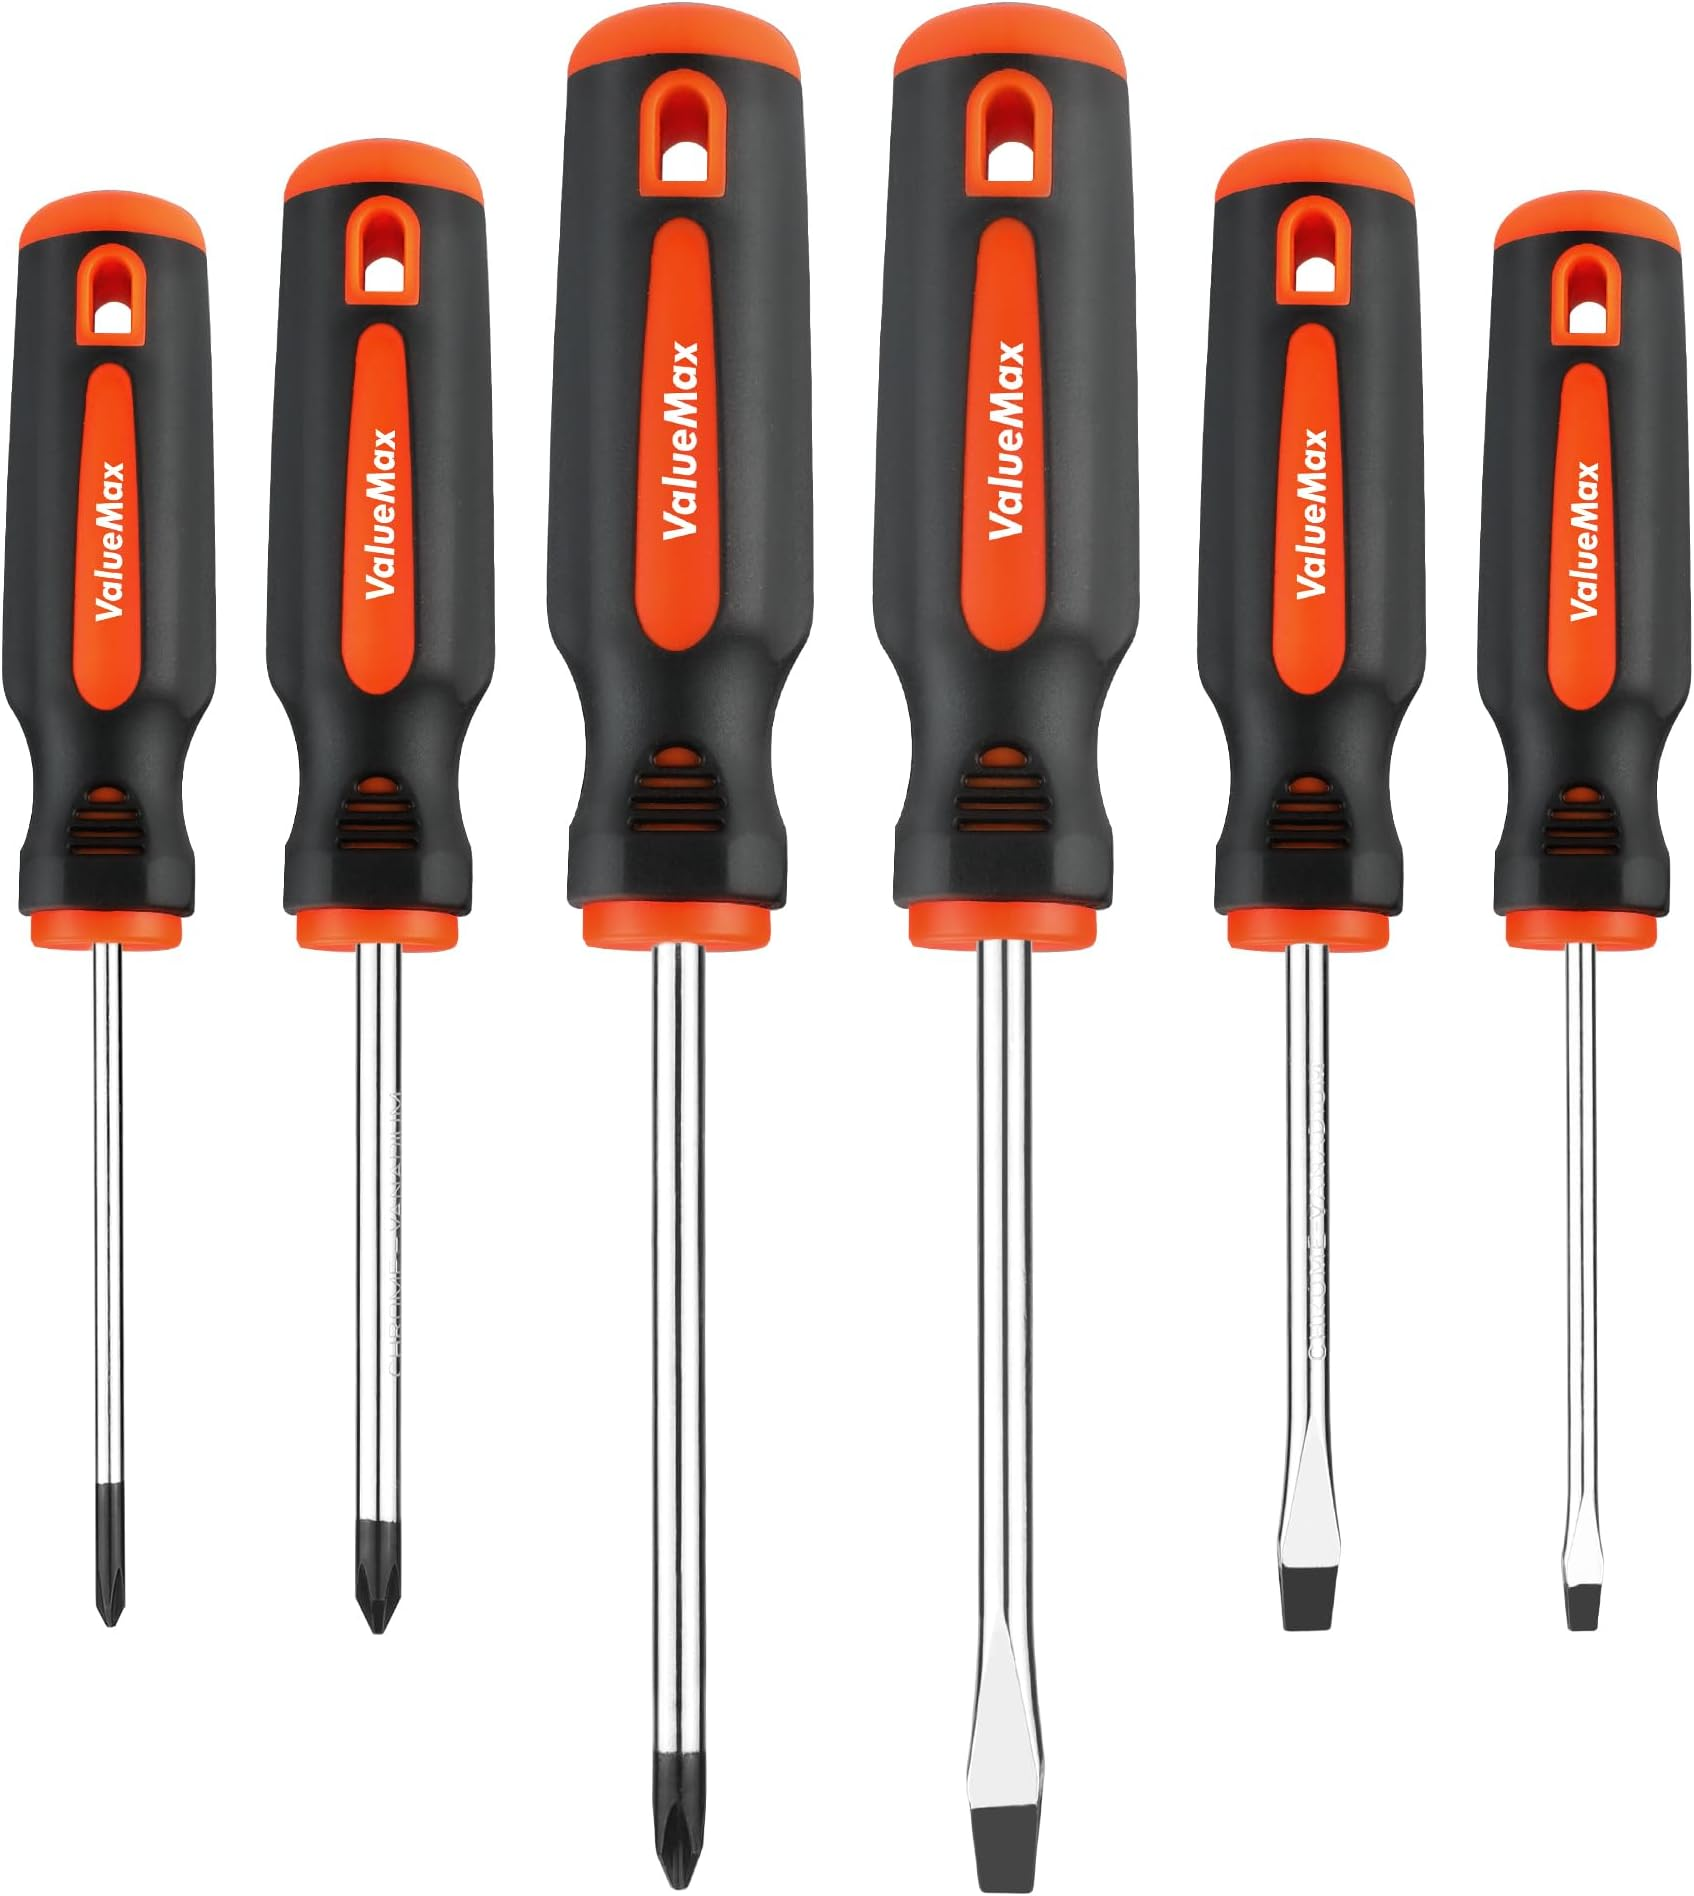screwdriver: (540, 2, 819, 1894), (865, 2, 1145, 1893), (1194, 137, 1432, 1634), (262, 139, 500, 1634), (1473, 186, 1691, 1634), (2, 190, 219, 1626)
